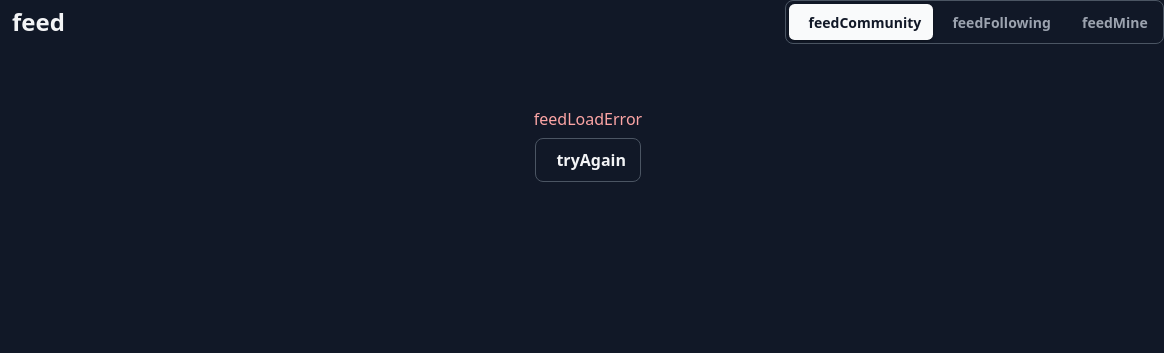
Test: FeedPage › offers retry after an initial loading failure
Expected: the message shows "feedLoadError", [534, 108, 642, 130]
Click the button "tryAgain" at (588, 160), box [535, 138, 641, 182]
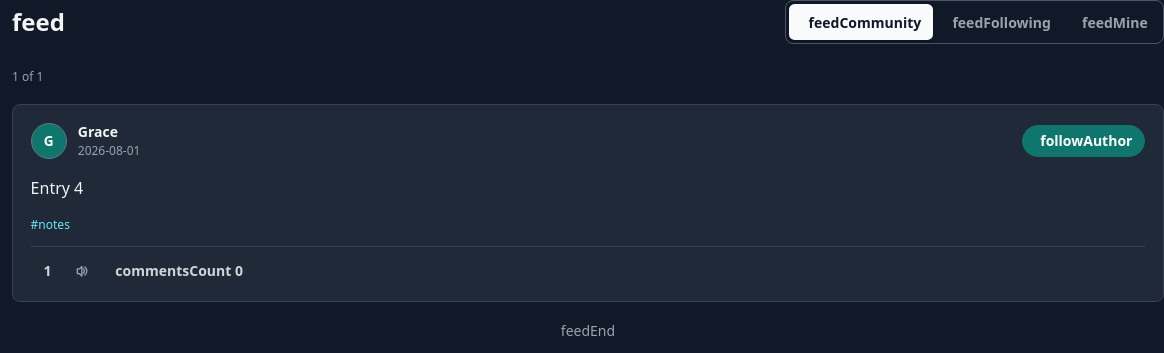
Now the text "Entry 4" is shown, box [31, 177, 83, 199]
